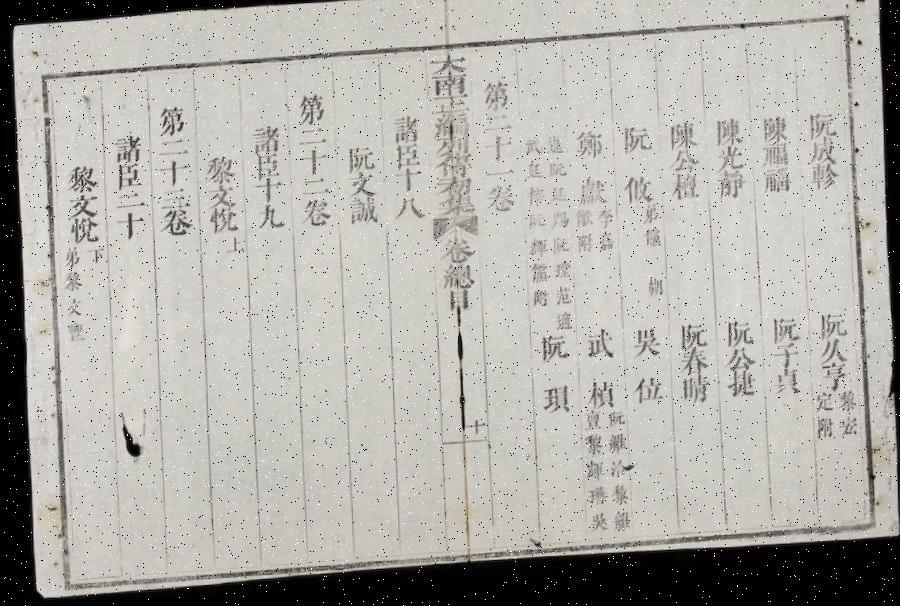c: (582, 330, 616, 366), (293, 93, 327, 129), (430, 114, 470, 144), (478, 82, 512, 117), (154, 104, 188, 139), (62, 162, 99, 194), (536, 388, 572, 420), (628, 331, 662, 364), (572, 132, 605, 166), (619, 179, 654, 211), (812, 317, 848, 348), (618, 130, 654, 161), (436, 240, 474, 269), (428, 56, 470, 82), (433, 142, 472, 170), (388, 117, 421, 150), (710, 122, 744, 154), (676, 380, 710, 412), (298, 200, 332, 232), (248, 125, 282, 157), (628, 380, 664, 410), (157, 209, 193, 239), (665, 126, 698, 158), (483, 187, 516, 219), (110, 132, 143, 164), (582, 384, 616, 415), (720, 325, 754, 356), (202, 155, 236, 186), (573, 182, 608, 212), (64, 216, 100, 245), (430, 78, 470, 104), (434, 197, 475, 222), (433, 177, 474, 202), (804, 118, 837, 149), (536, 338, 569, 369), (667, 178, 700, 209), (713, 177, 746, 208), (111, 212, 145, 242), (438, 268, 474, 296), (766, 322, 798, 353), (768, 375, 801, 405), (816, 370, 850, 399), (434, 162, 474, 186), (344, 147, 376, 177), (757, 122, 789, 152), (481, 139, 514, 168), (296, 150, 329, 179), (156, 159, 189, 188), (390, 198, 424, 226), (64, 192, 98, 220), (675, 327, 706, 357), (346, 200, 378, 229), (250, 154, 283, 182), (429, 97, 471, 119), (252, 204, 283, 233), (112, 162, 143, 191), (724, 377, 756, 405), (676, 355, 708, 383), (206, 208, 238, 236), (714, 152, 745, 180), (760, 175, 791, 203), (816, 346, 848, 373), (344, 175, 376, 202), (806, 172, 838, 199), (391, 146, 421, 174), (806, 147, 837, 174), (722, 353, 754, 379), (666, 156, 699, 181), (759, 151, 790, 177), (390, 172, 422, 197), (204, 185, 236, 210), (768, 351, 798, 377), (158, 187, 190, 211), (155, 138, 189, 160), (252, 180, 282, 204), (298, 179, 330, 201), (112, 191, 145, 212), (481, 116, 511, 139), (296, 128, 326, 151), (445, 293, 471, 318), (581, 463, 604, 487), (482, 170, 514, 187), (583, 489, 606, 512), (584, 516, 607, 539), (527, 266, 549, 290), (524, 190, 546, 214), (834, 424, 857, 446), (605, 463, 628, 485), (64, 319, 86, 342), (812, 398, 833, 422), (609, 514, 630, 538), (582, 437, 603, 461), (526, 242, 548, 264), (60, 270, 82, 292), (62, 296, 84, 318), (604, 438, 626, 460), (640, 232, 661, 255), (812, 424, 833, 447), (834, 398, 855, 421), (608, 488, 628, 512), (595, 235, 614, 260), (548, 215, 570, 236), (543, 139, 564, 161), (522, 140, 543, 162), (522, 166, 544, 187), (643, 282, 664, 304), (552, 290, 572, 313), (594, 212, 614, 235), (552, 315, 572, 337), (524, 216, 546, 236), (60, 246, 80, 268), (462, 420, 484, 440), (550, 241, 570, 262), (574, 213, 594, 234), (84, 246, 105, 266), (222, 237, 244, 256), (582, 414, 600, 437), (551, 266, 571, 286), (548, 190, 568, 210), (604, 416, 624, 436), (529, 293, 548, 314), (574, 239, 592, 261), (640, 210, 658, 232), (546, 166, 566, 185)
